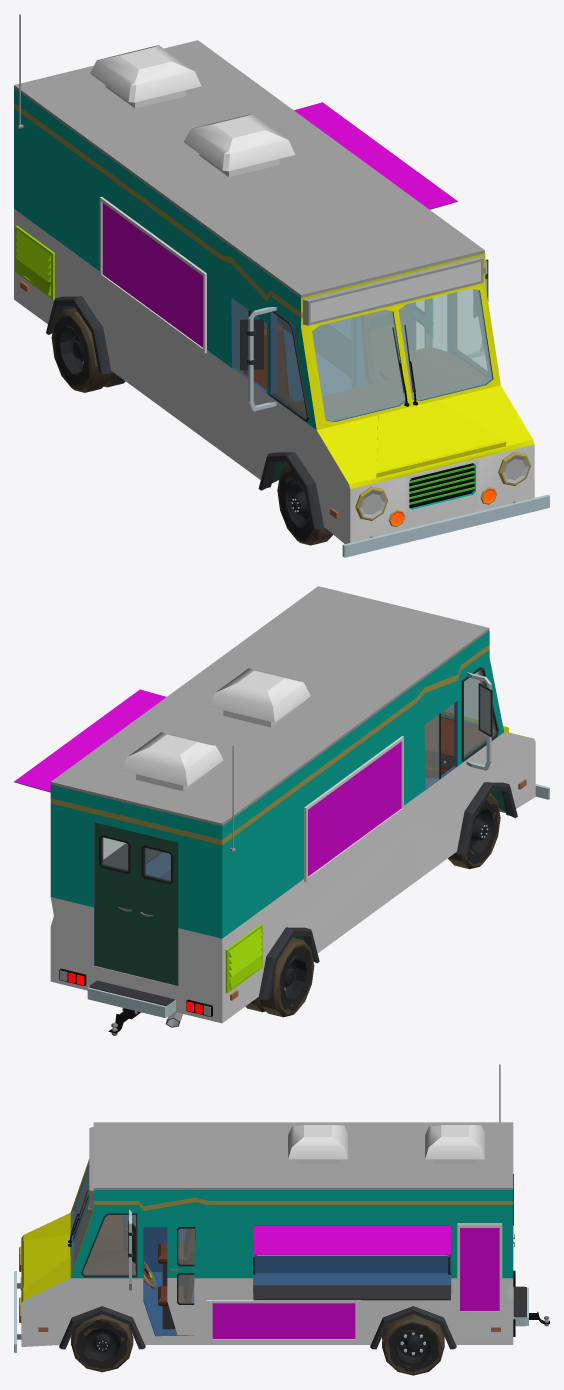
File: FoodTruck3.fbx
3 renders of one model, top to bottom at view 1: azimuth 30°, elevation 25°; view 2: azimuth 150°, elevation 25°; view 3: azimuth 270°, elevation 25°, orthographic. The views are drawn at different scales.
Parts seen in each view (by area): view 1: Main_Body, Roof_Vent, Board_2, Dash, Top_Door, Wheel_RR, Wheel_FR; view 2: Main_Body, Board_2, Roof_Vent, Rear_Door_L, Rear_Door_R, Top_Door, Wheel_RR, Wheel_FR, Dash; view 3: Main_Body, Board_1, Top_Door, Roof_Vent, Board_3, Wheel_RL, Side_Door, Wheel_FL, Dash.
Part boxes in pixels (x1,y1,x2,y2): Main_Body: (14, 40, 549, 557); Roof_Vent: (90, 45, 295, 176); Board_2: (99, 196, 206, 353); Dash: (292, 347, 487, 419); Top_Door: (294, 102, 457, 209); Wheel_RR: (51, 307, 125, 392); Wheel_FR: (277, 464, 333, 545); Main_Body: (50, 586, 549, 1027); Board_2: (304, 736, 403, 881); Roof_Vent: (121, 668, 310, 791); Rear_Door_L: (94, 822, 136, 975); Rear_Door_R: (136, 833, 178, 985); Top_Door: (14, 689, 166, 792); Wheel_RR: (245, 937, 314, 1017); Wheel_FR: (448, 793, 500, 869); Dash: (425, 716, 486, 778); Main_Body: (14, 1122, 528, 1352); Board_1: (206, 1300, 361, 1341); Top_Door: (253, 1226, 450, 1255); Roof_Vent: (288, 1125, 484, 1164); Board_3: (457, 1223, 502, 1315); Wheel_RL: (382, 1314, 444, 1375); Side_Door: (167, 1227, 195, 1335); Wheel_FL: (71, 1314, 133, 1372); Dash: (75, 1213, 135, 1273).
Bounding box in the file's own units: 383 × 406 × 815.
